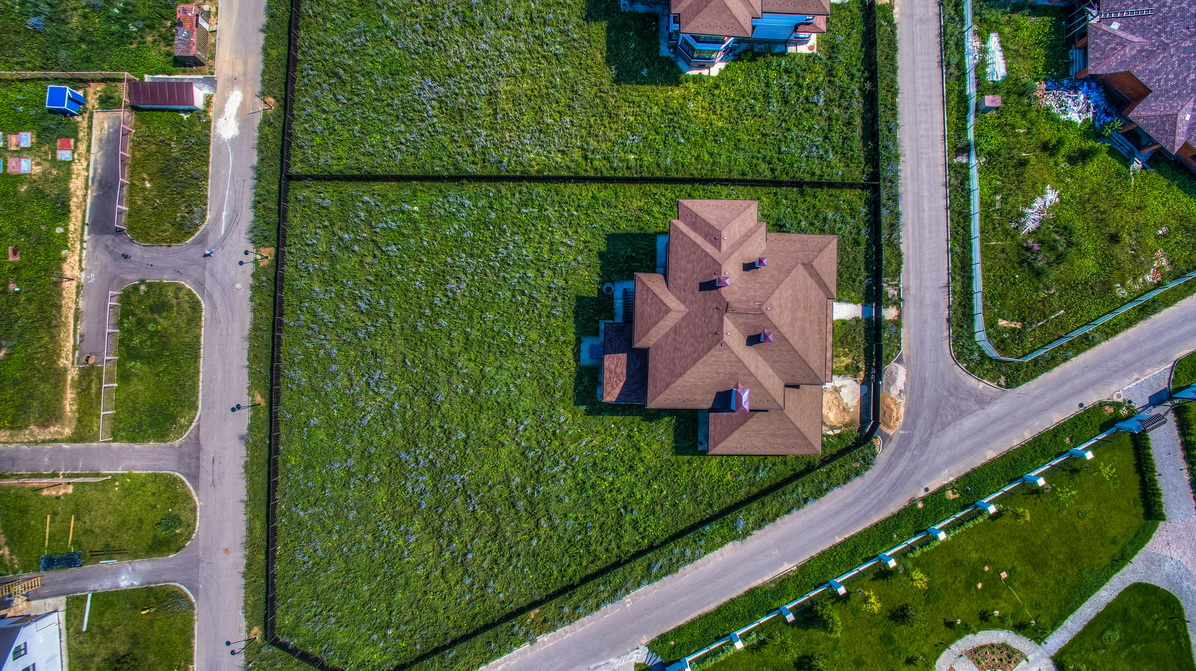build: (583, 188, 854, 465), (1056, 2, 1196, 174), (610, 1, 845, 78), (121, 71, 203, 116)
